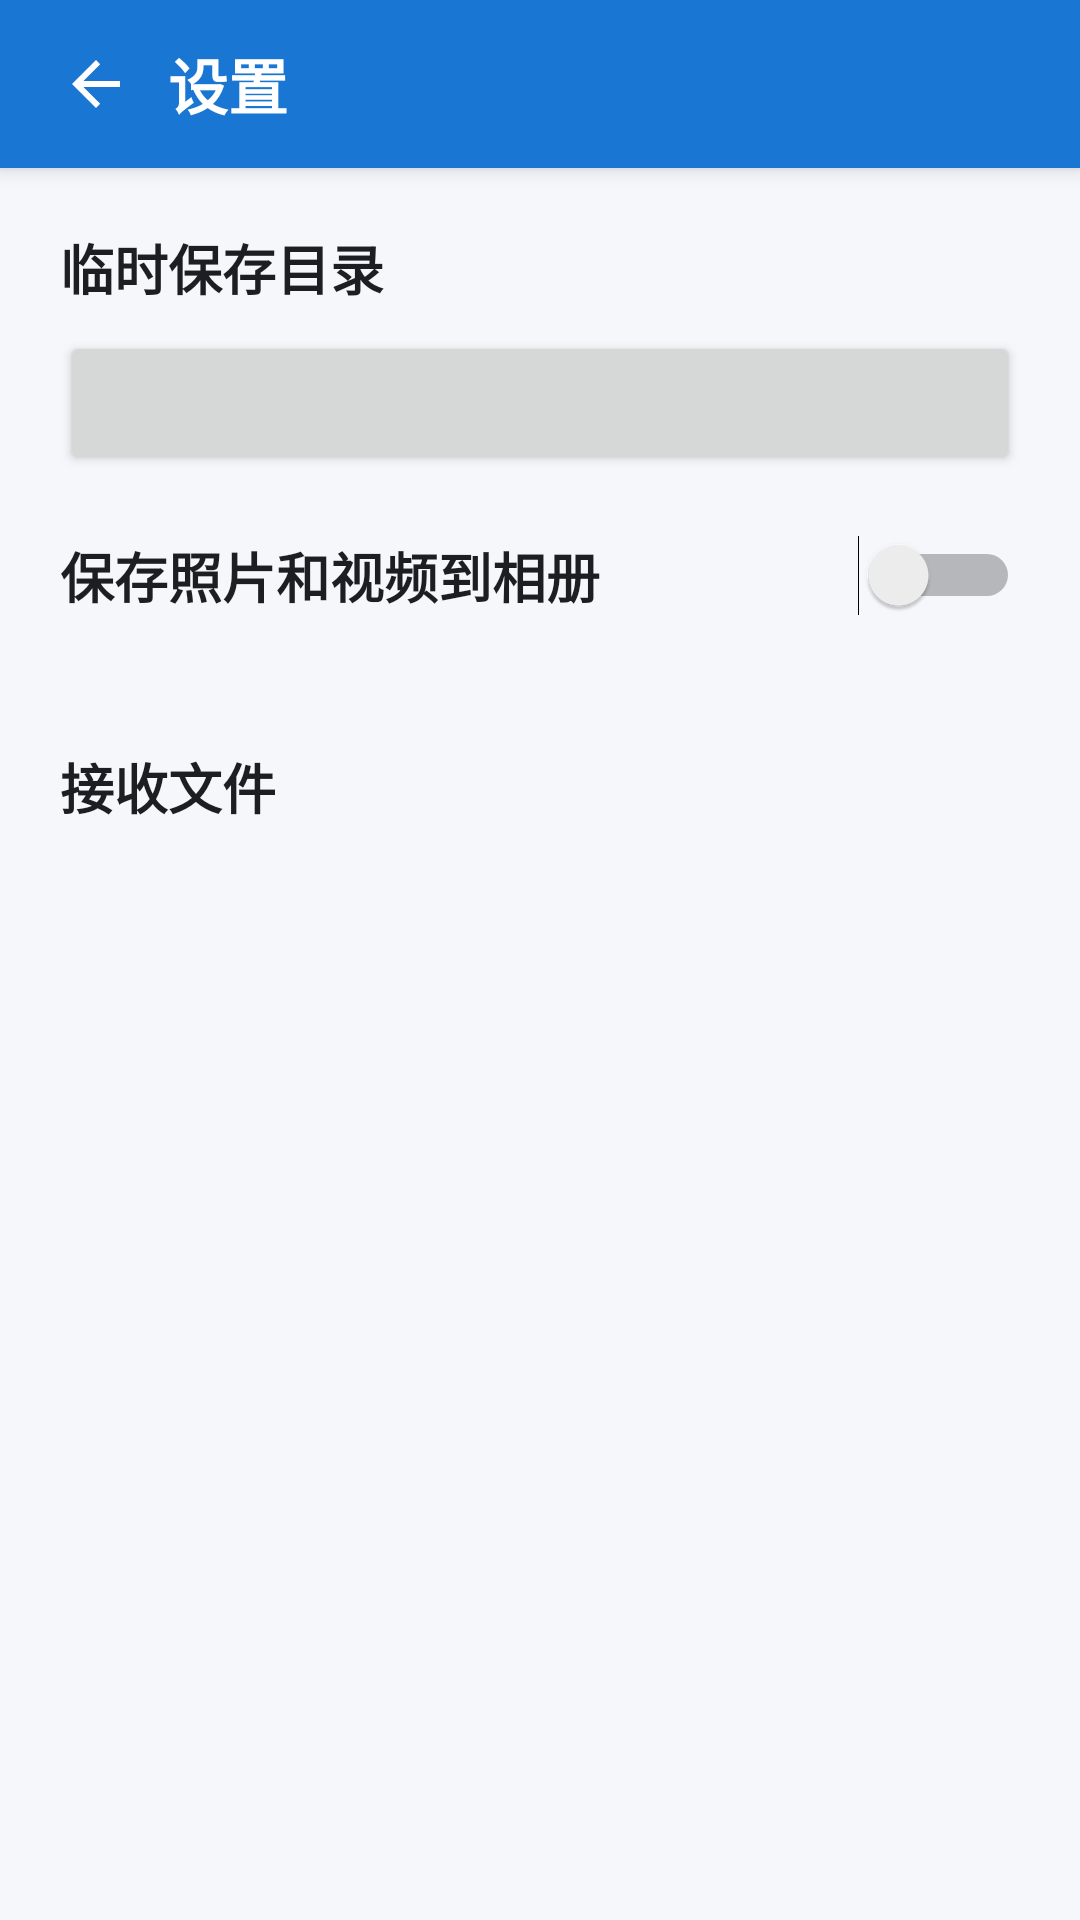

Named icons in this screenshot (1080 × 1920) and their centers, (x,y):
返回: (96,84)
